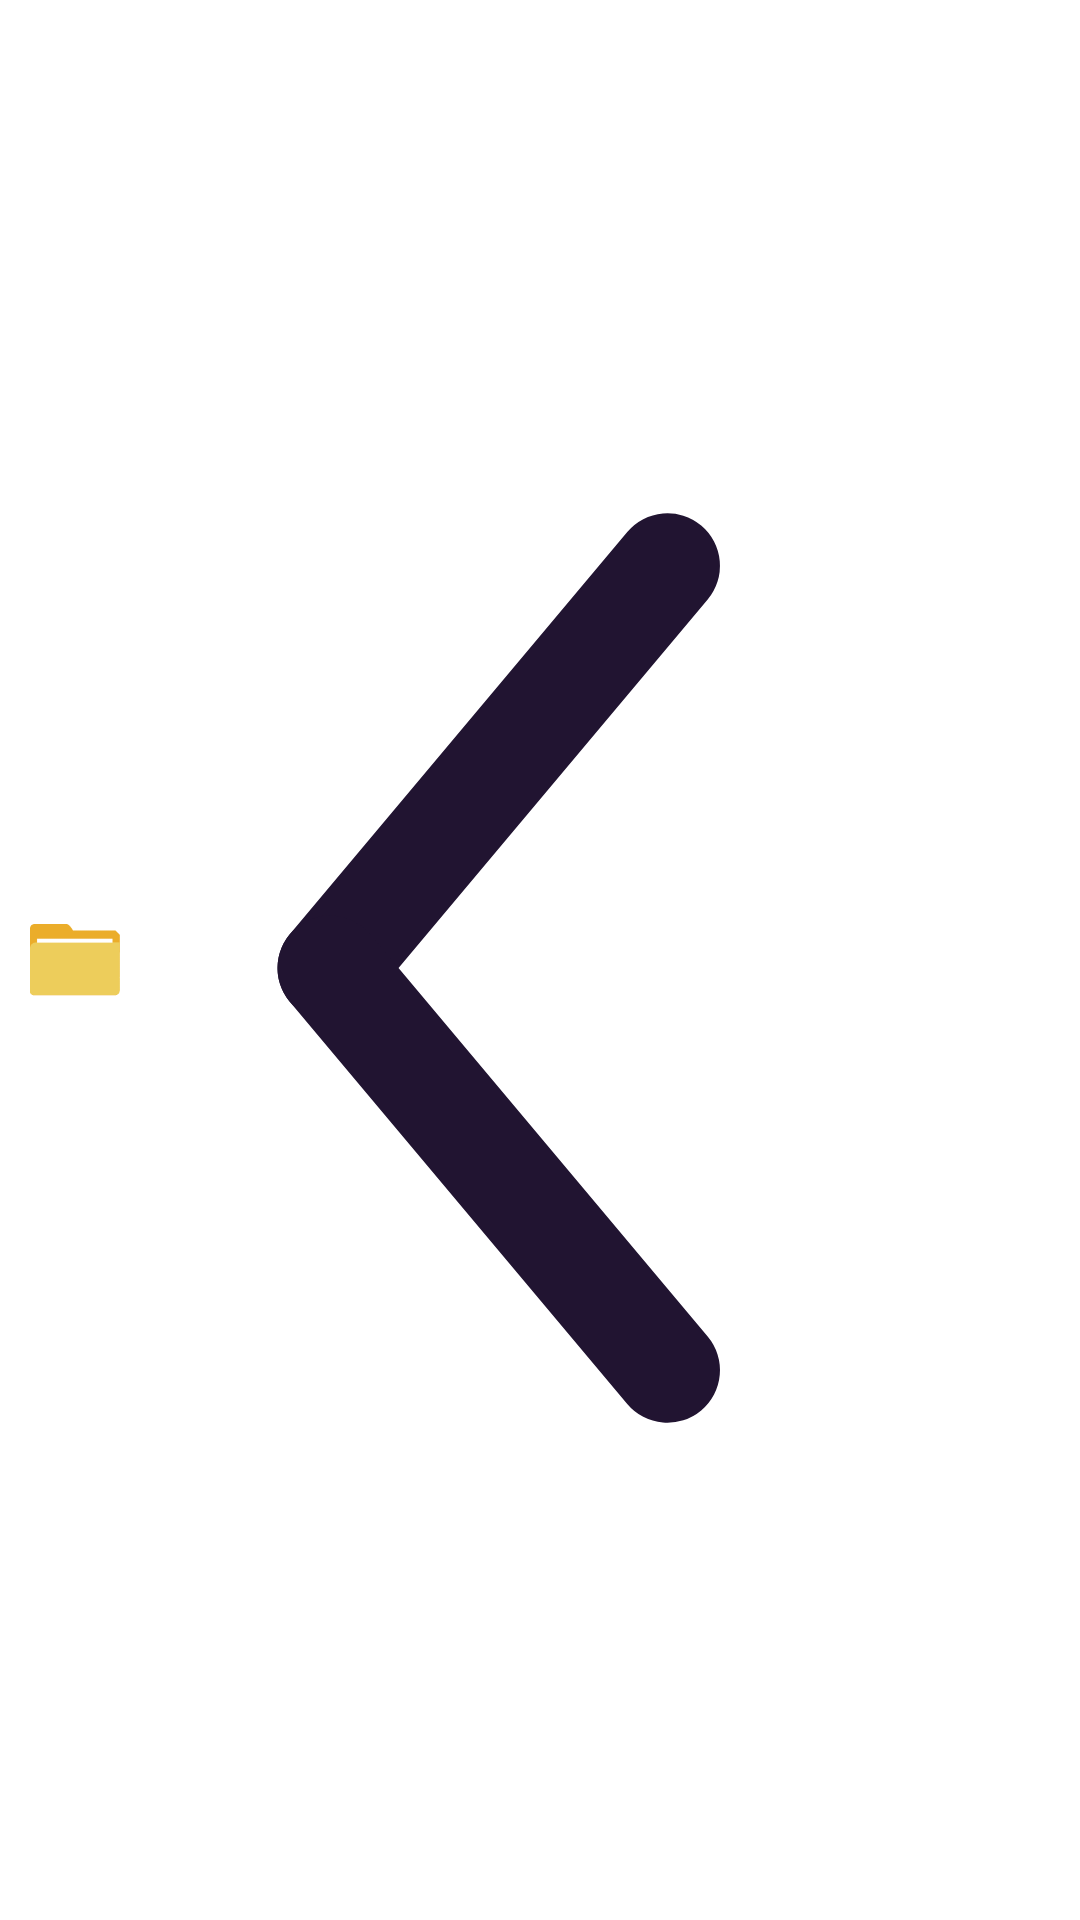

Locate icon controls on the screen. Image size 1080*1920, boxes as {"left": x1, "top": y1, "right": x2, "bottom": y2}.
page file directory: {"left": 30, "top": 924, "right": 120, "bottom": 996}
